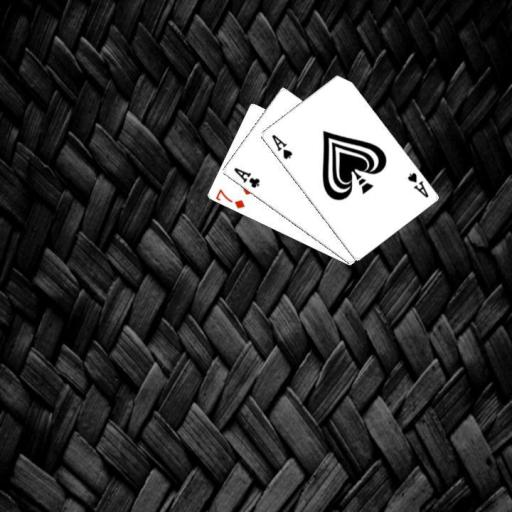7D: (213, 186, 246, 211)
AC: (230, 164, 261, 190)
AS: (268, 131, 294, 161), (404, 169, 429, 199)
